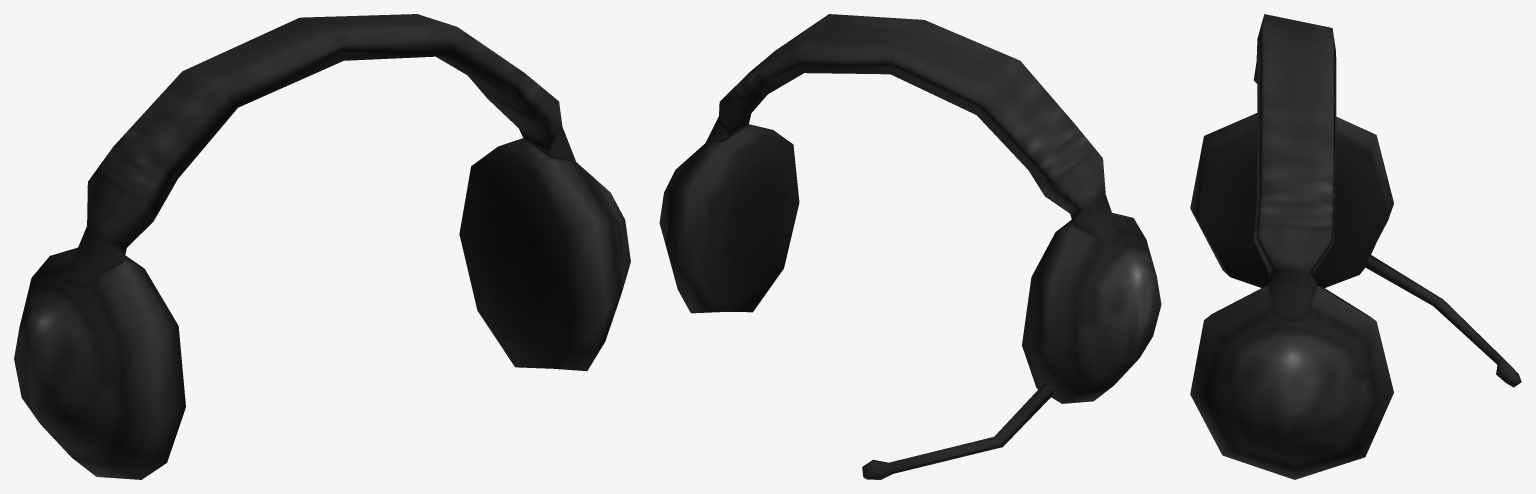
The model's file is headphone3.glb.
3 renders of one model, left to right at view 1: azimuth 30°, elevation 25°; view 2: azimuth 150°, elevation 25°; view 3: azimuth 270°, elevation 25°, orthographic. The views are drawn at different scales.
Visible parts, largest first — view 1: headphone3; view 2: headphone3; view 3: headphone3.
Part boxes in pixels (<box>): headphone3: <box>14,14,630,479</box>; headphone3: <box>659,14,1161,479</box>; headphone3: <box>1190,14,1521,479</box>.
Bounding box in the file's own units: 0.4712 × 0.3422 × 0.2741.
1 material, 1 textured.
